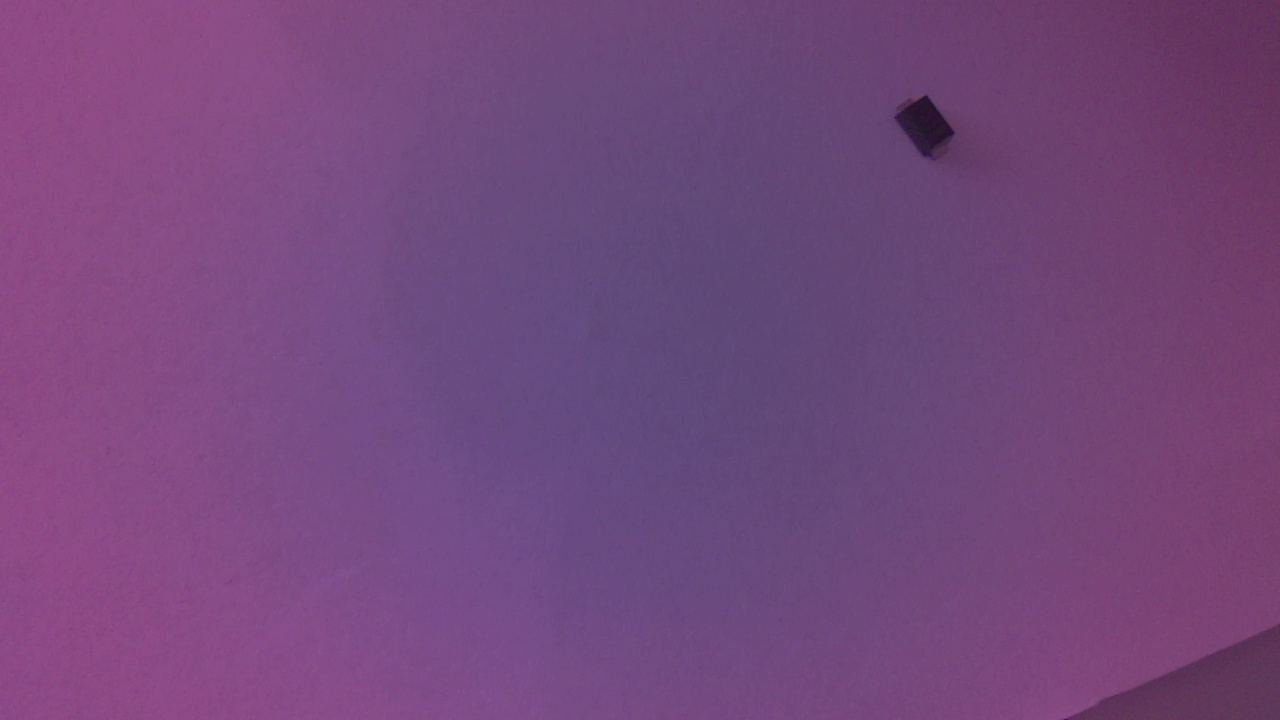Diode: (893, 94, 962, 173)
